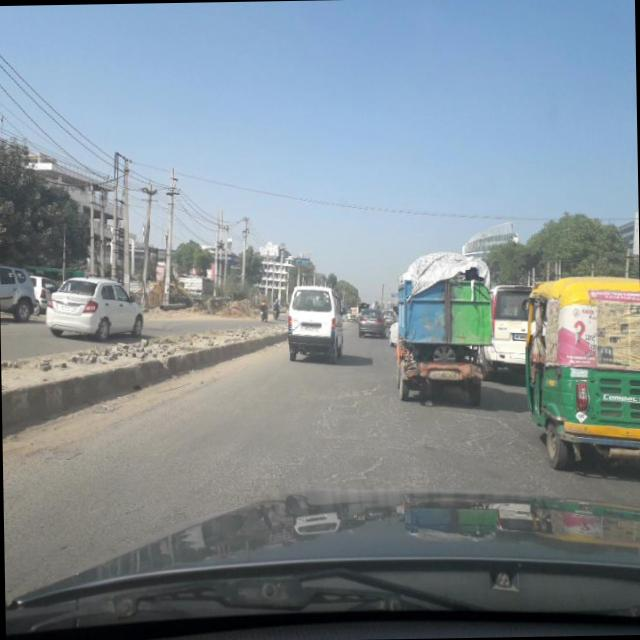crack: (219, 396, 532, 490)
